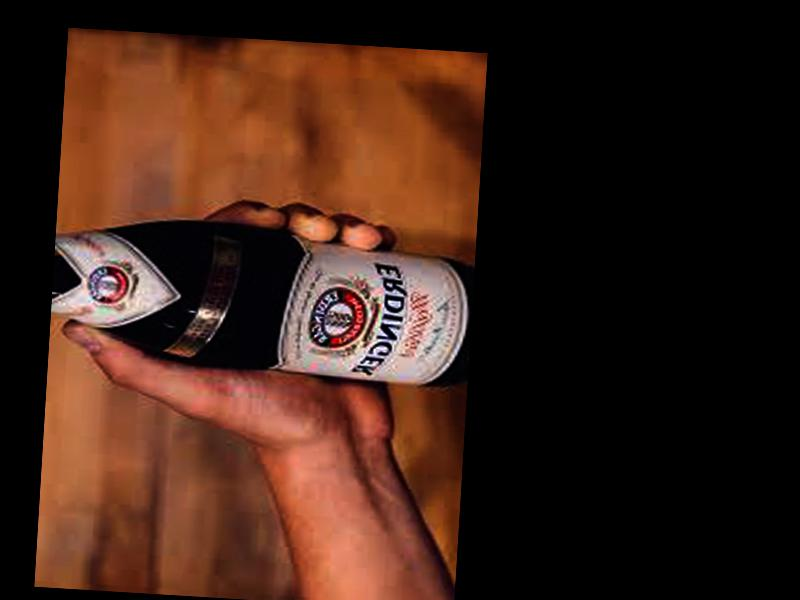Beer: (52, 213, 476, 391)
